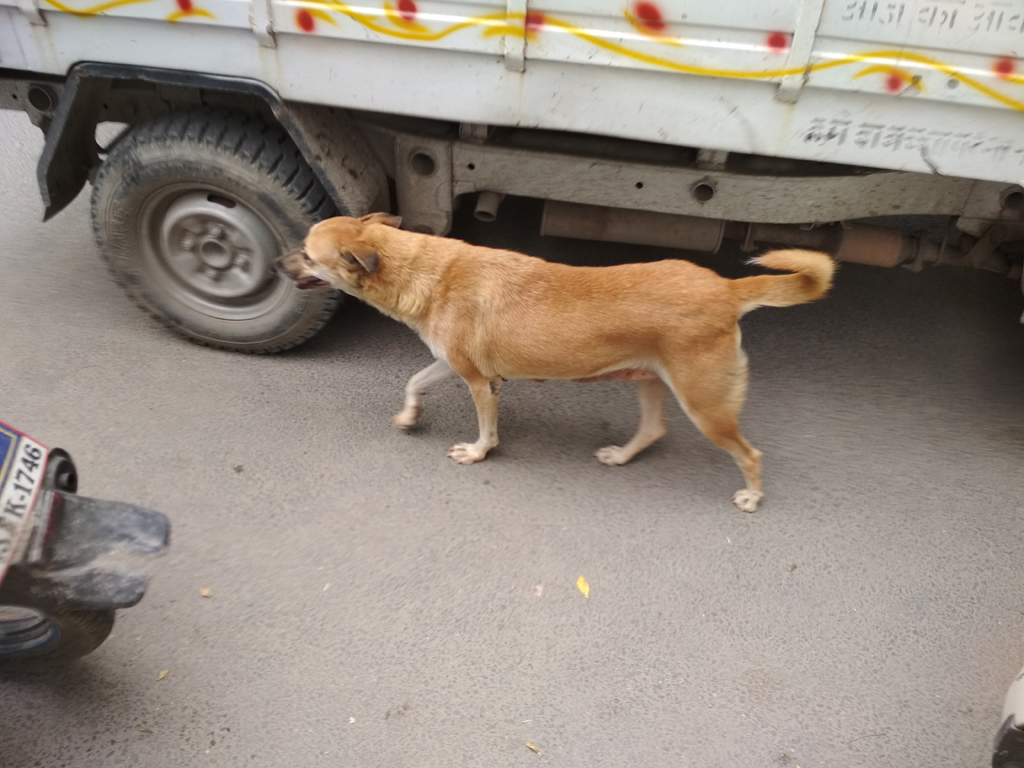dog: (274, 214, 837, 511)
